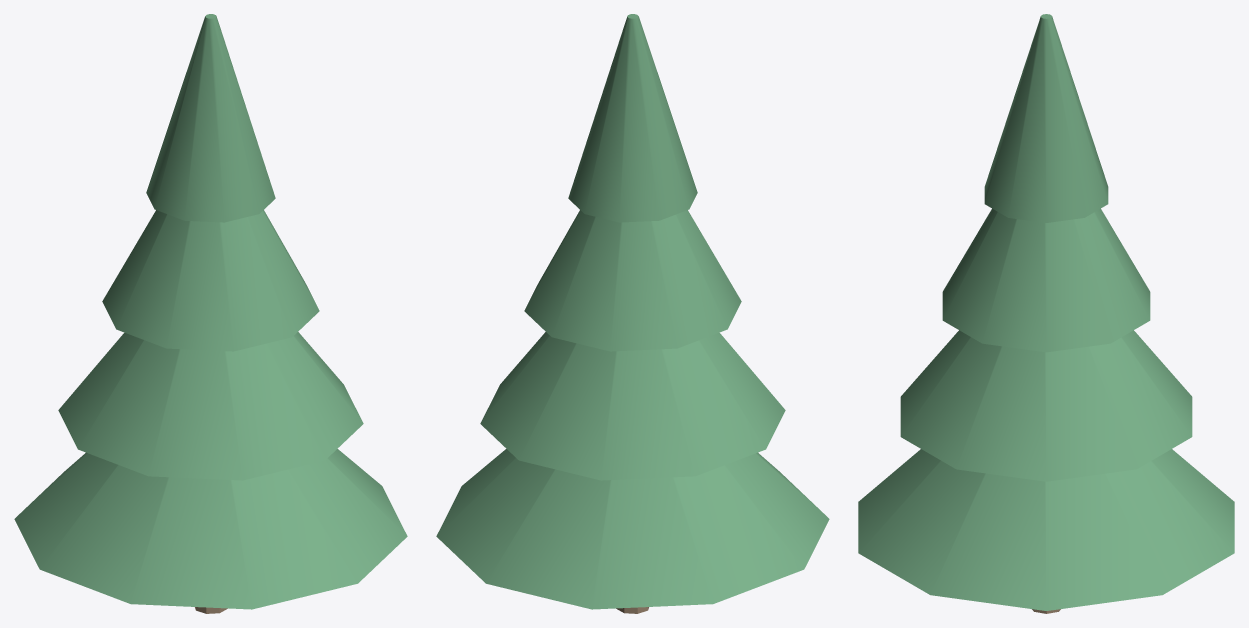
Rendered from tree_pine.glb.
3 renders of one model, left to right at view 1: azimuth 30°, elevation 25°; view 2: azimuth 150°, elevation 25°; view 3: azimuth 270°, elevation 25°, orthographic.
Parts seen in each view (by area): view 1: body; view 2: body; view 3: body.
Part boxes in pixels (x1,y1,x2,y2): body: (14,14,407,613); body: (436,14,829,613); body: (858,14,1234,613).
Bounding box in the file's own units: 3.4 × 5.6 × 3.23.
